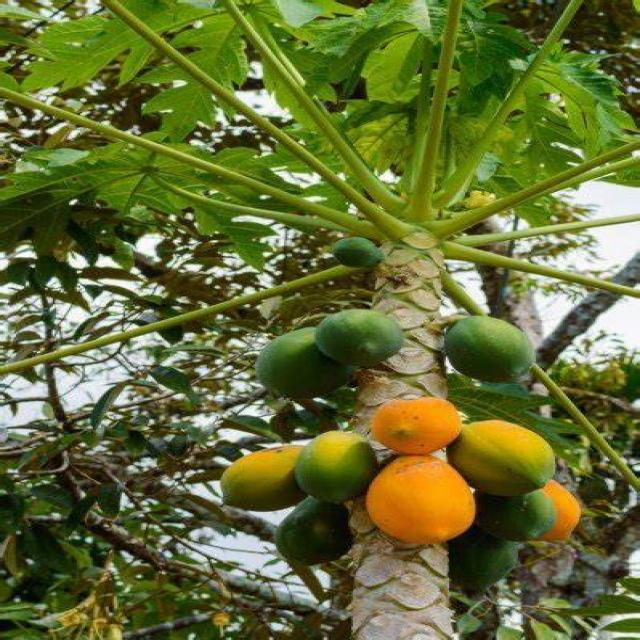Pepaya rippen: (364, 457, 472, 545), (205, 435, 300, 510), (462, 422, 560, 490), (370, 391, 450, 450), (304, 430, 366, 497), (545, 484, 581, 546)
Pepaya unrippen: (448, 309, 546, 376), (247, 326, 337, 395), (320, 305, 408, 365), (272, 506, 350, 570), (454, 540, 521, 602), (334, 238, 382, 264)
